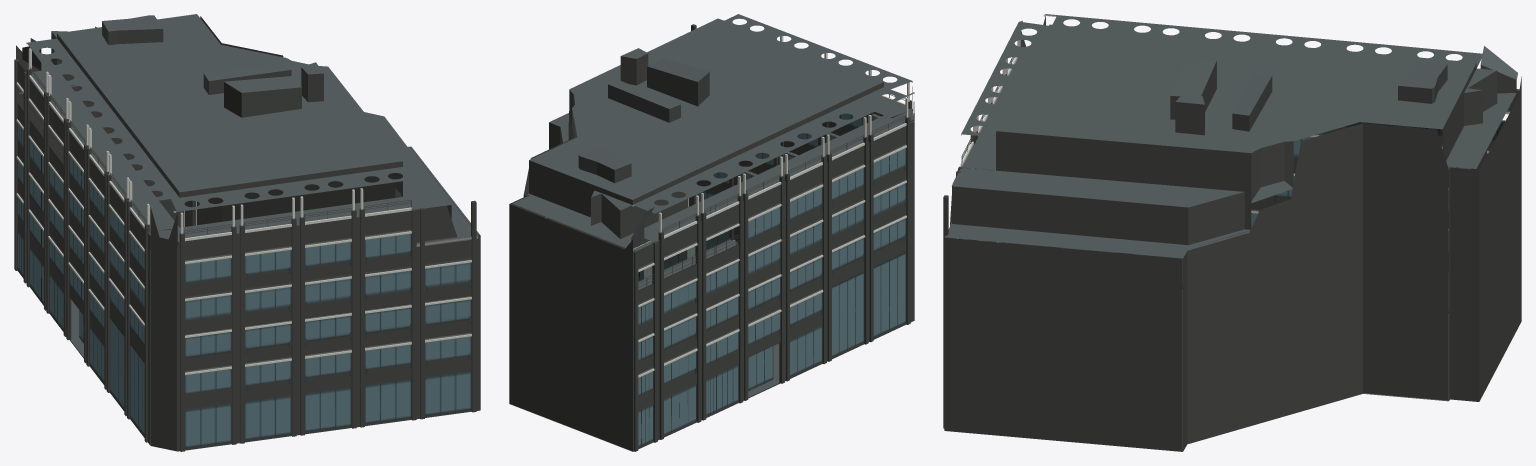
The picture shows the model from 3 angles, left to right: view 1: azimuth 30°, elevation 25°; view 2: azimuth 150°, elevation 25°; view 3: azimuth 270°, elevation 25°; orthographic projection. The views are drawn at different scales.
Visible parts, largest first — view 1: 0363100012167975; view 2: 0363100012167975; view 3: 0363100012167975.
Boxes of the visible parts, bbox=[...] form: 0363100012167975: bbox=[14, 14, 480, 451]; 0363100012167975: bbox=[509, 14, 914, 451]; 0363100012167975: bbox=[943, 14, 1521, 451].
Bounding box in the file's own units: 31.51 × 25.48 × 44.3.
3 materials, 1 textured.
